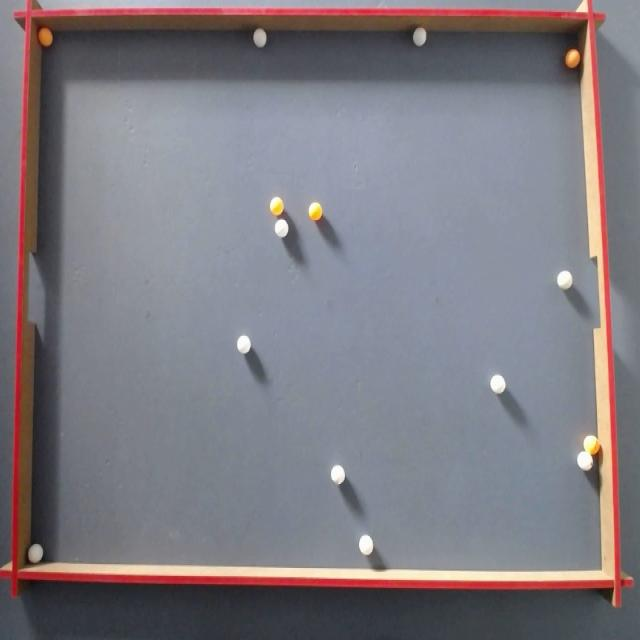orange_ball: (584, 435, 599, 455), (38, 27, 52, 46), (566, 49, 580, 68), (309, 202, 322, 220), (270, 197, 283, 215)
white_ball: (28, 543, 44, 564), (490, 374, 506, 394), (577, 452, 593, 471), (557, 270, 572, 290), (359, 535, 373, 555), (274, 219, 288, 237), (413, 27, 426, 46), (331, 465, 344, 484), (237, 335, 250, 354), (253, 29, 266, 47)
